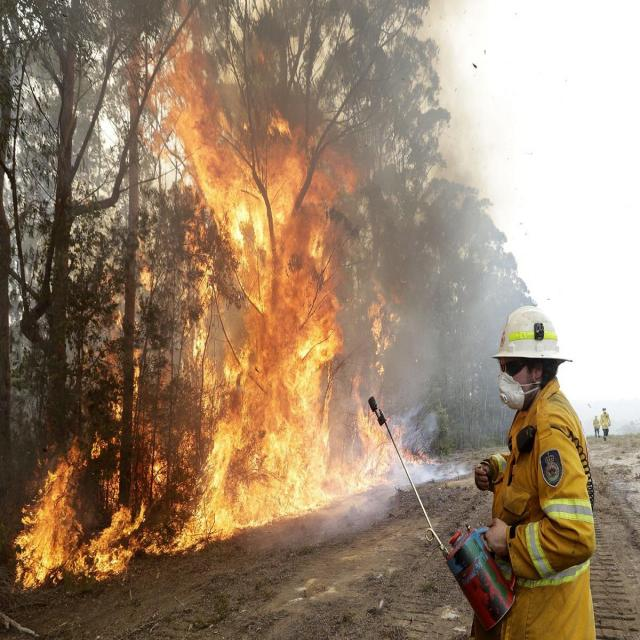fire: (13, 6, 419, 596)
